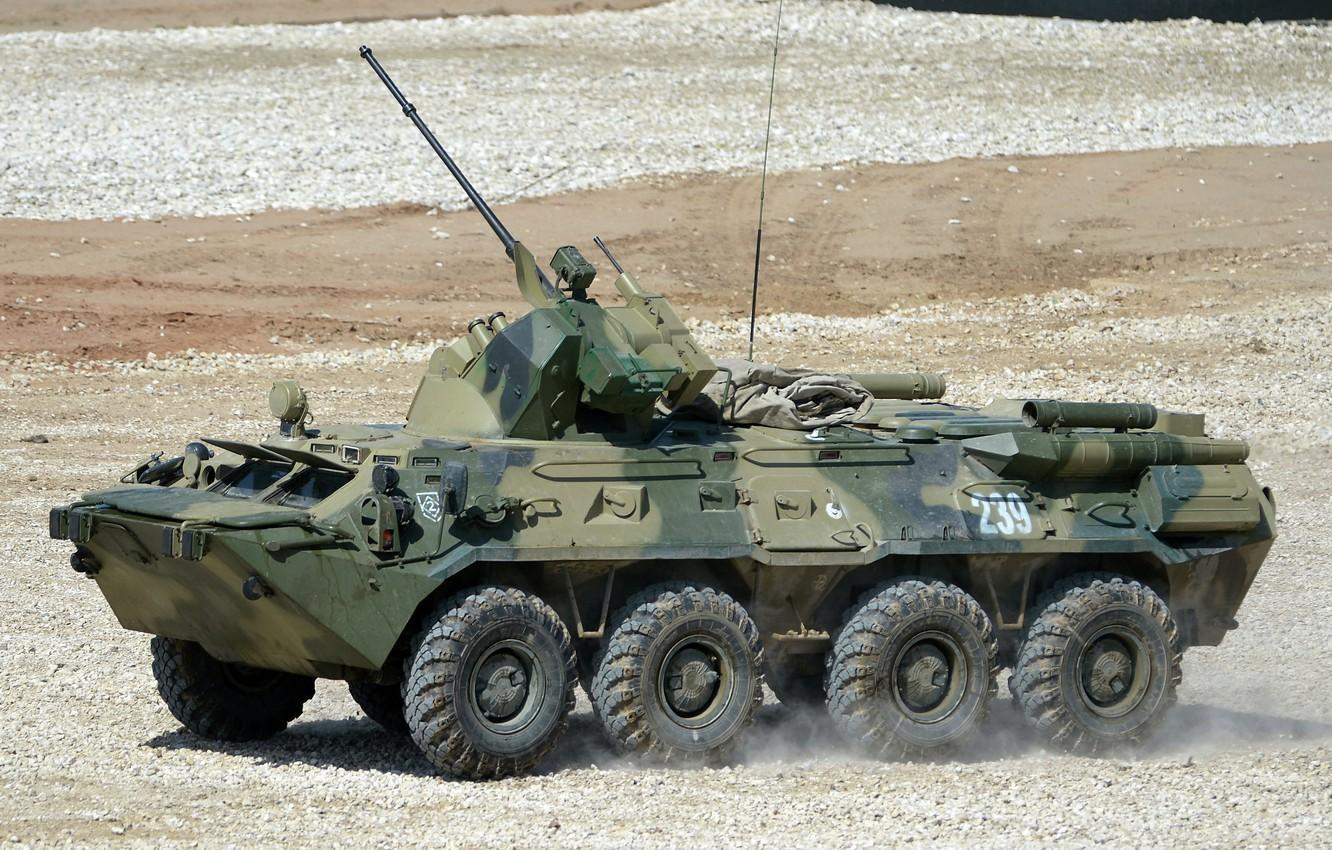tank: (42, 39, 1299, 790)
